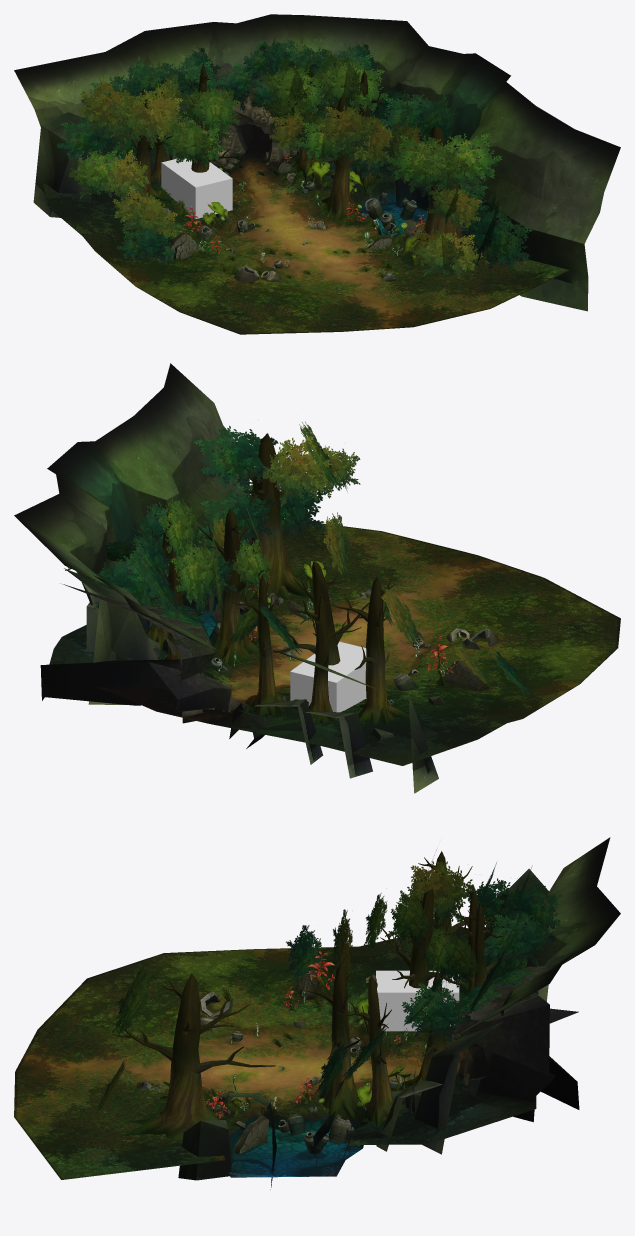
File: forest_test4.gltf
3 views of the same model, one above another, from view 1: azimuth 30°, elevation 25°; view 2: azimuth 150°, elevation 25°; view 3: azimuth 270°, elevation 25° (orthographic). The views are drawn at different scales.
Visible parts, largest first — view 1: BackSide_0.005, BackSide_0, BackSide_0.013, BackSide_0.019, BackSide_0.020, BackSide_0.022, BackSide_0.001, Cube, BackSide_0.018, BackSide_0.009, BackSide_0.011, BackSide_0.012 (+6 smaller); view 2: BackSide_0.005, BackSide_0, BackSide_0.022, BackSide_0.013, BackSide_0.001, BackSide_0.018, BackSide_0.020, BackSide_0.019, Cube, BackSide_0.012, BackSide_0.011, BackSide_0.014; view 3: BackSide_0.005, BackSide_0.022, BackSide_0.013, BackSide_0.018, BackSide_0, BackSide_0.001, BackSide_0.020, BackSide_0.019, Cube, BackSide_0.012, BackSide_0.011, BackSide_0.014 (+3 smaller).
Boxes of the visible parts, left/top/right/bottom form: BackSide_0.005: left=43, top=131, right=569, bottom=334; BackSide_0: left=14, top=14, right=620, bottom=311; BackSide_0.013: left=57, top=38, right=532, bottom=269; BackSide_0.019: left=80, top=72, right=482, bottom=278; BackSide_0.020: left=69, top=50, right=502, bottom=198; BackSide_0.022: left=125, top=64, right=488, bottom=267; BackSide_0.001: left=33, top=85, right=470, bottom=238; Cube: left=161, top=158, right=232, bottom=218; BackSide_0.018: left=211, top=64, right=298, bottom=162; BackSide_0.009: left=117, top=175, right=405, bottom=278; BackSide_0.011: left=194, top=198, right=395, bottom=281; BackSide_0.012: left=167, top=161, right=425, bottom=259; BackSide_0.005: left=49, top=519, right=620, bottom=765; BackSide_0: left=14, top=363, right=385, bottom=738; BackSide_0.022: left=122, top=433, right=409, bottom=724; BackSide_0.013: left=65, top=426, right=530, bottom=695; BackSide_0.001: left=64, top=567, right=444, bottom=793; BackSide_0.018: left=40, top=584, right=231, bottom=723; BackSide_0.020: left=158, top=422, right=394, bottom=645; BackSide_0.019: left=211, top=436, right=493, bottom=688; Cube: left=290, top=641, right=366, bottom=712; BackSide_0.012: left=196, top=601, right=483, bottom=689; BackSide_0.011: left=393, top=627, right=497, bottom=690; BackSide_0.014: left=248, top=576, right=456, bottom=686; BackSide_0.005: left=14, top=927, right=536, bottom=1179; BackSide_0.022: left=109, top=851, right=511, bottom=1140; BackSide_0.013: left=286, top=862, right=561, bottom=1097; BackSide_0.018: left=456, top=966, right=579, bottom=1122; BackSide_0: left=220, top=837, right=620, bottom=1189; BackSide_0.001: left=178, top=868, right=548, bottom=1180; BackSide_0.020: left=111, top=868, right=481, bottom=1036; BackSide_0.019: left=95, top=850, right=475, bottom=1114; Cube: left=376, top=970, right=459, bottom=1031; BackSide_0.012: left=218, top=969, right=317, bottom=1154; BackSide_0.011: left=200, top=991, right=361, bottom=1143; BackSide_0.014: left=205, top=951, right=400, bottom=1118.
Size of the model in its own units: 55.29 by 23.38 by 58.35.
Materials: 26 (26 with a texture image).
